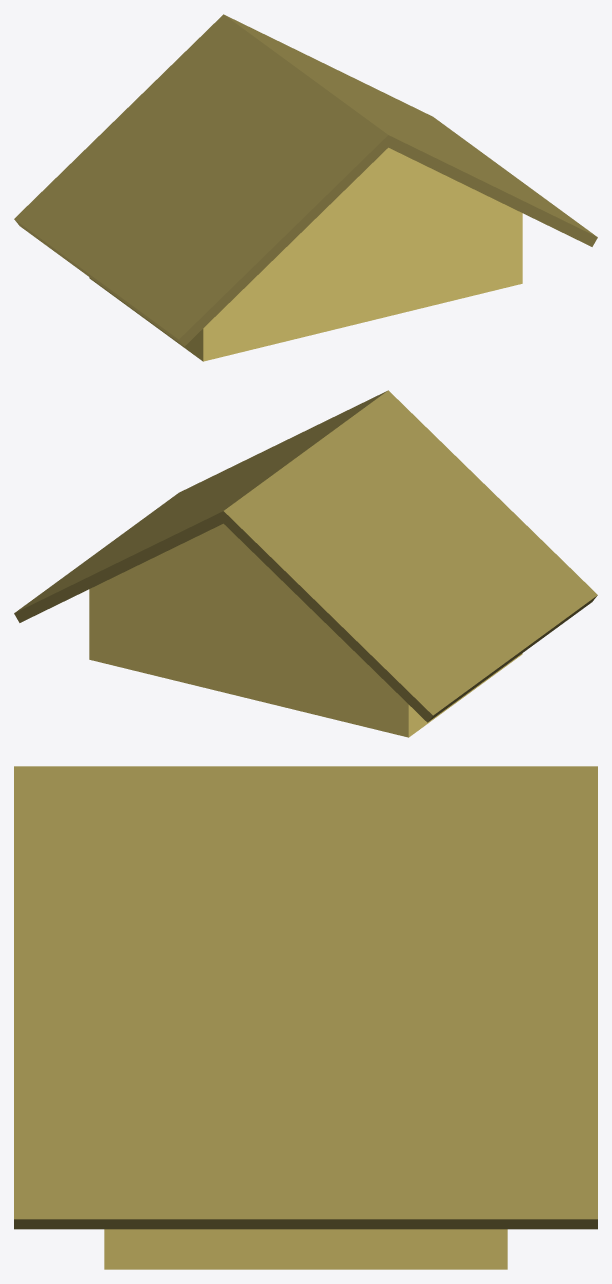
Rendered from result.glb.
The picture shows the model from 3 angles, top to bottom: view 1: azimuth 30°, elevation 25°; view 2: azimuth 150°, elevation 25°; view 3: azimuth 270°, elevation 25°; orthographic projection. The views are drawn at different scales.
Visible parts, largest first — view 1: 394c9ed1-c113-4a9e-8e52-cbb690e4edd7__undefined (×2), 00603bf0-97de-4b8e-a7ca-f7c98a4cb95a__undefined; view 2: 394c9ed1-c113-4a9e-8e52-cbb690e4edd7__undefined (×2), 00603bf0-97de-4b8e-a7ca-f7c98a4cb95a__undefined; view 3: 394c9ed1-c113-4a9e-8e52-cbb690e4edd7__undefined, 00603bf0-97de-4b8e-a7ca-f7c98a4cb95a__undefined.
Part boxes in pixels (left/top/right/bottom): 394c9ed1-c113-4a9e-8e52-cbb690e4edd7__undefined (×2): left=14, top=14, right=597, bottom=346; 00603bf0-97de-4b8e-a7ca-f7c98a4cb95a__undefined: left=89, top=147, right=522, bottom=361; 394c9ed1-c113-4a9e-8e52-cbb690e4edd7__undefined (×2): left=14, top=390, right=597, bottom=722; 00603bf0-97de-4b8e-a7ca-f7c98a4cb95a__undefined: left=89, top=523, right=522, bottom=737; 394c9ed1-c113-4a9e-8e52-cbb690e4edd7__undefined: left=14, top=766, right=597, bottom=1229; 00603bf0-97de-4b8e-a7ca-f7c98a4cb95a__undefined: left=104, top=1229, right=507, bottom=1269.
Bounding box in the file's own units: 1063 × 500 × 724.
